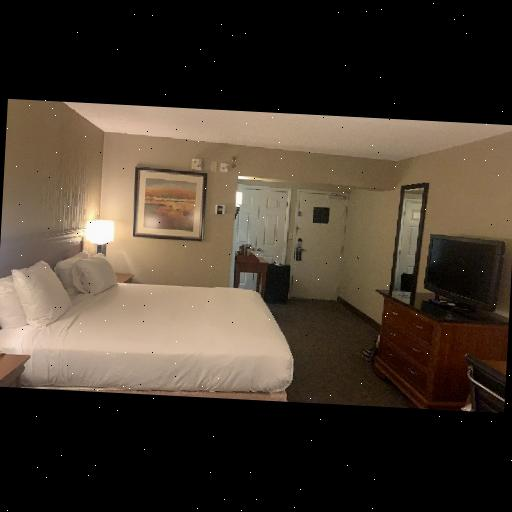clean_bed: (0, 227, 289, 402)
clean_floor: (271, 300, 424, 412)
organised_pillow: (0, 249, 125, 329)
organized table: (375, 290, 508, 414)
